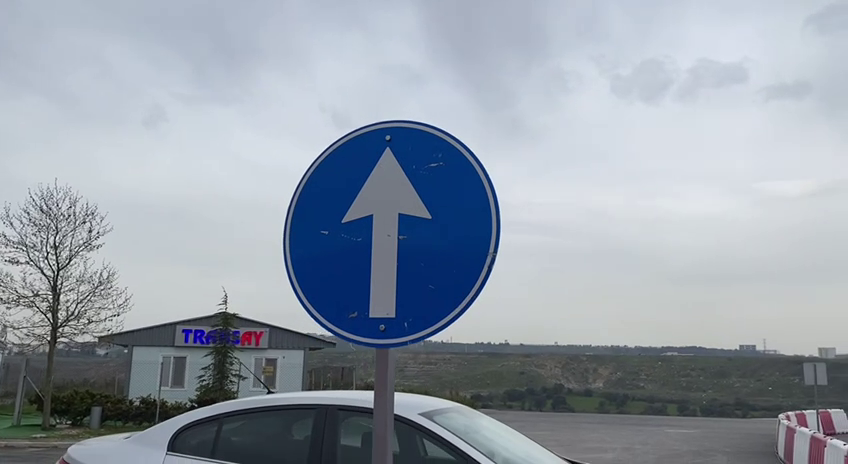forward: (275, 114, 506, 351)
